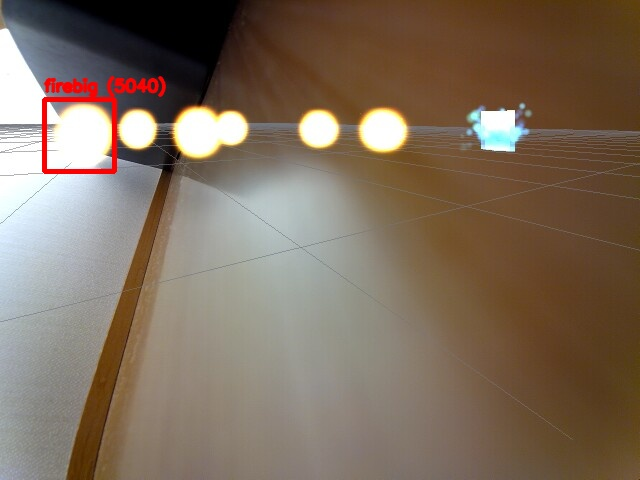firebig: (44, 99, 114, 171)
